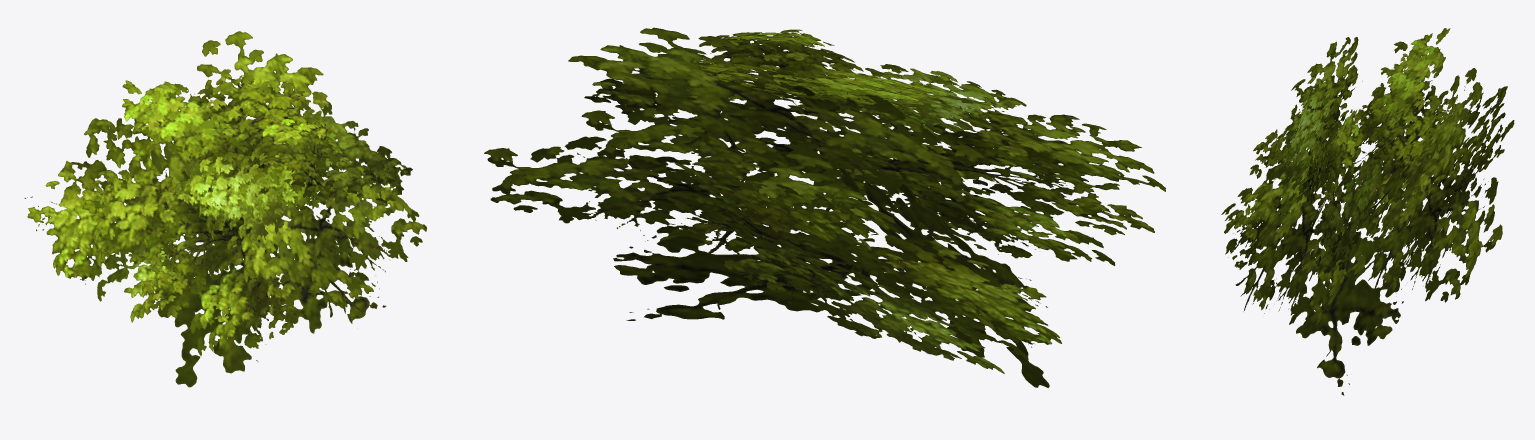
The model's file is SM_Stage001_Tree02.FBX.
3 renders of one model, left to right at view 1: azimuth 30°, elevation 25°; view 2: azimuth 150°, elevation 25°; view 3: azimuth 270°, elevation 25°, orthographic. The views are drawn at different scales.
Visible parts, largest first — view 1: SM_Stage001_Tree02; view 2: SM_Stage001_Tree02; view 3: SM_Stage001_Tree02.
Boxes of the visible parts, bbox=[...] form: SM_Stage001_Tree02: bbox=[24, 31, 426, 387]; SM_Stage001_Tree02: bbox=[484, 27, 1165, 387]; SM_Stage001_Tree02: bbox=[1221, 28, 1514, 395].
Bounding box in the file's own units: 756 × 522 × 606.
1 material, 1 textured.
